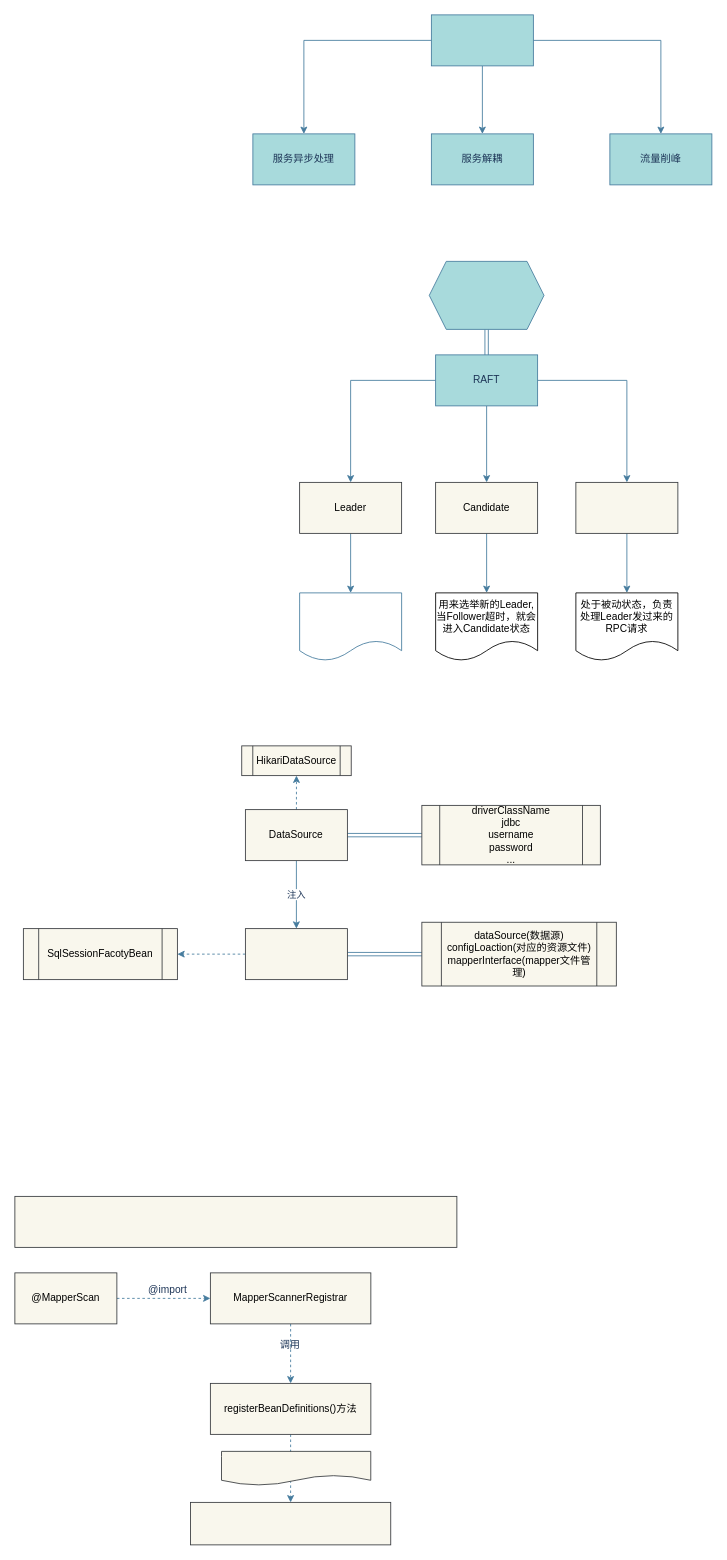
Image size: 727x1560. Some labels were removed from this diagram. Each missing label, with the centre of its shape:
"Follower" belongs at (626,507).
"Mapper的加载流程" belongs at (235,1221).
"MQ的作用" belongs at (482,40).
"scanner.doScan (basepackages)" belongs at (290,1523).
"SqlSessionFactory" belongs at (296,954).
"创建对象ClassPathMapperScanner" belongs at (296,1468).
"可靠，可复制 可冗余，可容错" belongs at (486,295).
"负责所有的写请求，发起日志复制，定时心跳" belongs at (350,626).
